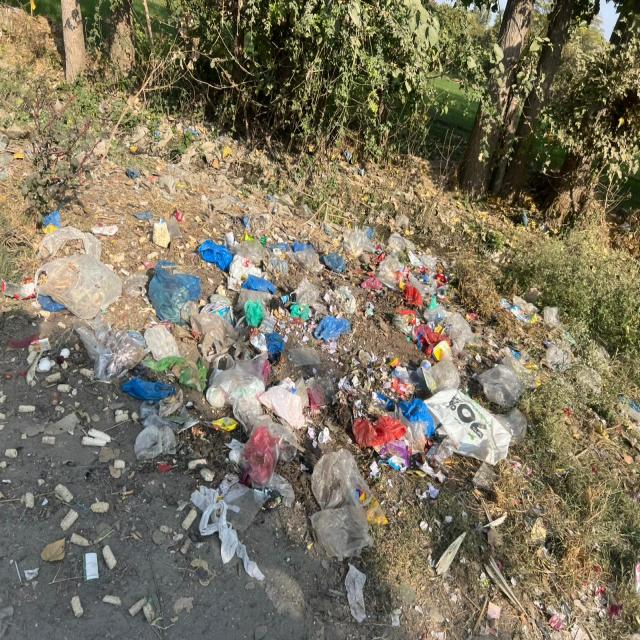garbage: (44, 227, 486, 574)
